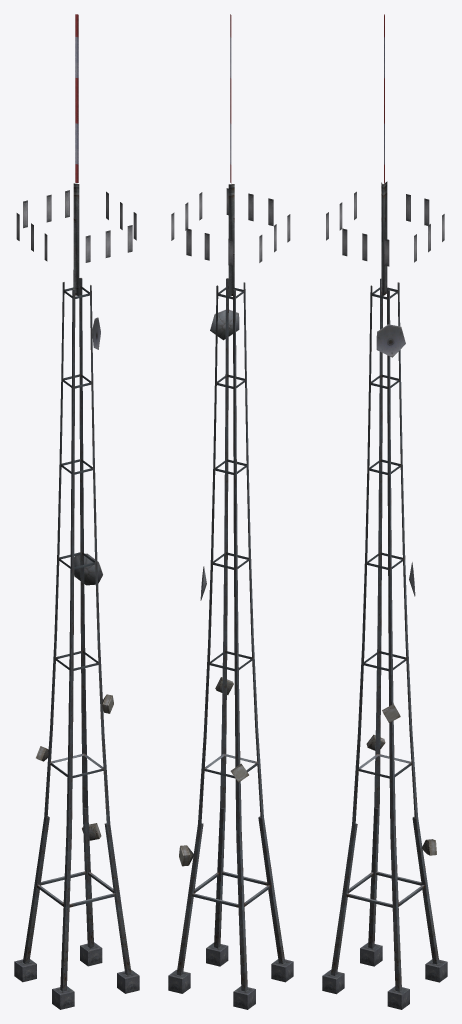
The model's file is Prop_Tower_lod2.glb.
3 views of the same model, side by side, from view 1: azimuth 30°, elevation 25°; view 2: azimuth 150°, elevation 25°; view 3: azimuth 330°, elevation 25° (orthographic).
Parts seen in each view (by area): view 1: xiutz_tt_lod2_0; view 2: xiutz_tt_lod2_0; view 3: xiutz_tt_lod2_0.
Boxes of the visible parts, box(x1,y1,x2,y2) form: xiutz_tt_lod2_0: box(14, 14, 139, 1009); xiutz_tt_lod2_0: box(168, 14, 293, 1009); xiutz_tt_lod2_0: box(322, 14, 447, 1009).
Bounding box in the file's own units: 3.25 × 33.86 × 3.26.
2 materials, 2 textured.
